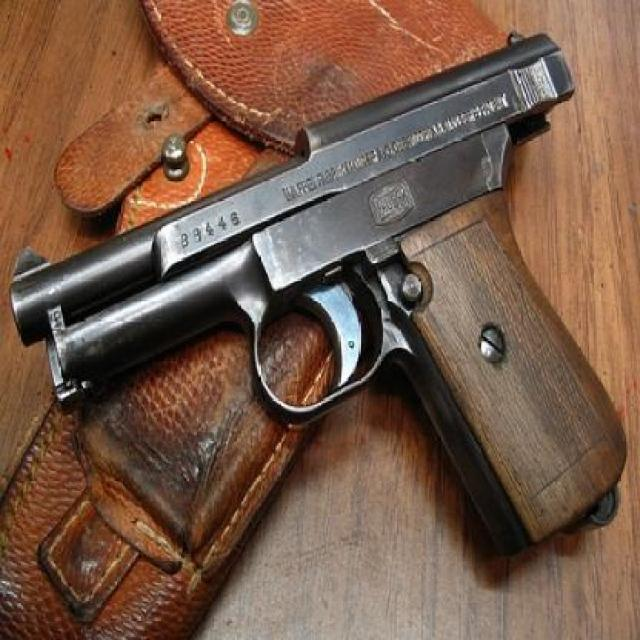gun: (0, 20, 637, 585)
